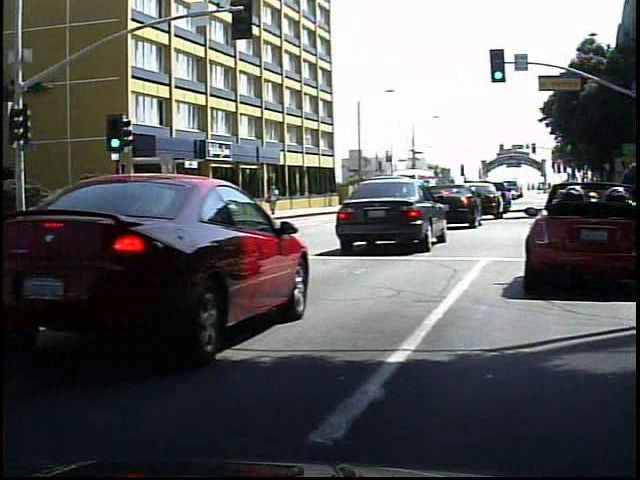person: (260, 179, 278, 217)
